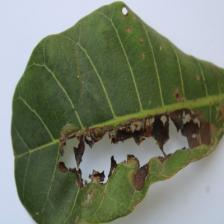leaf miner: (10, 0, 224, 223)
